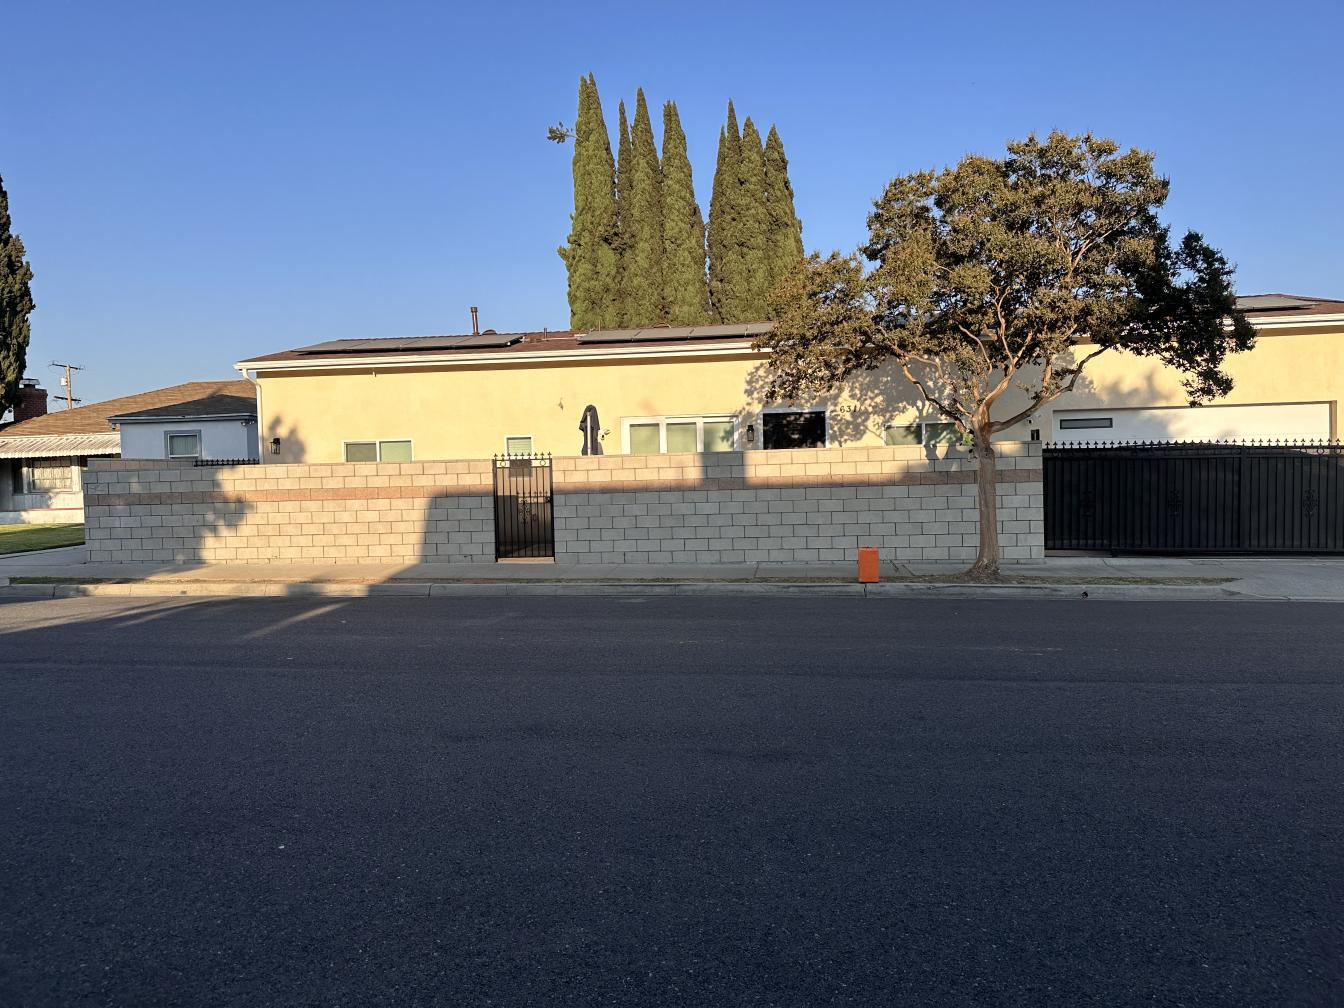curbs-laRr: (19, 579, 1229, 605)
orange box: (858, 548, 885, 583)
